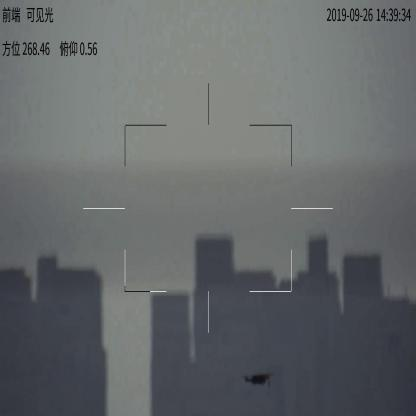uav: (241, 369, 275, 389)
